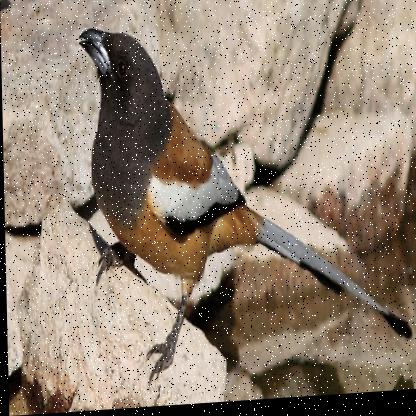Burung: (80, 13, 411, 388)
